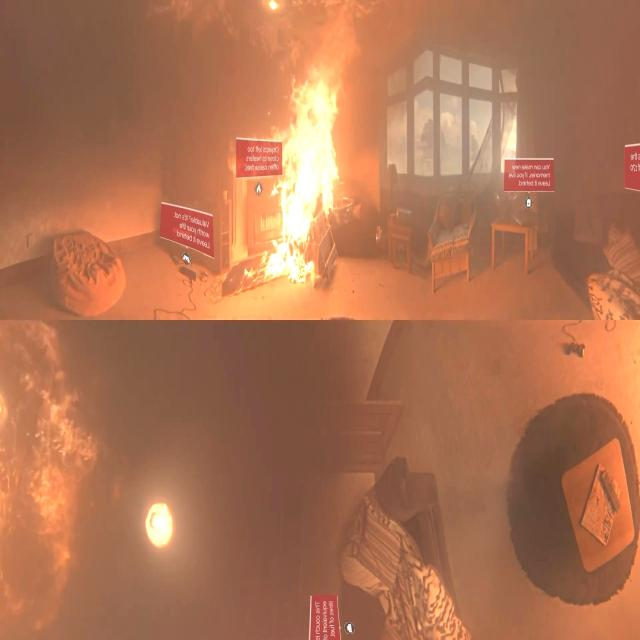fire: (272, 0, 351, 271)
